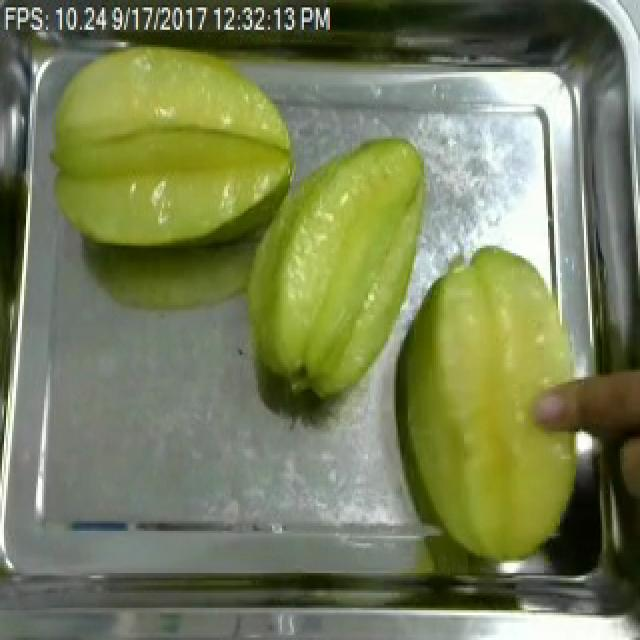fruit: (378, 238, 590, 573), (36, 27, 306, 258), (232, 132, 434, 410)
